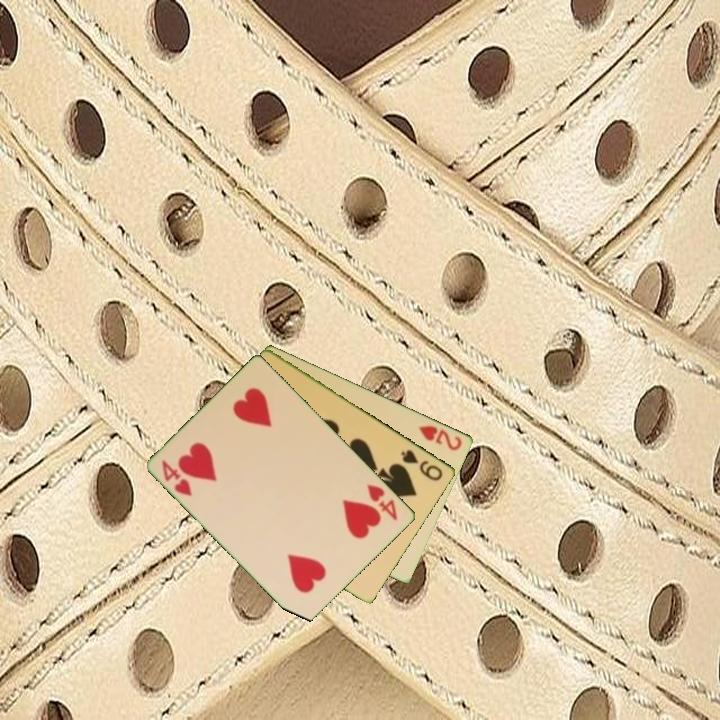2h: (415, 422, 465, 453)
4h: (363, 480, 401, 524), (159, 456, 196, 499)
9s: (397, 446, 446, 484)
